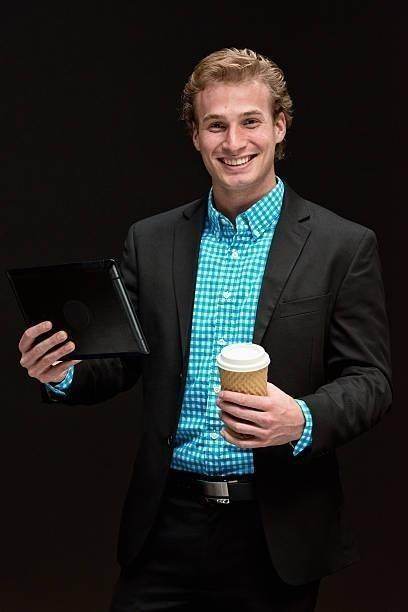cup-disposable: (214, 341, 272, 445)
